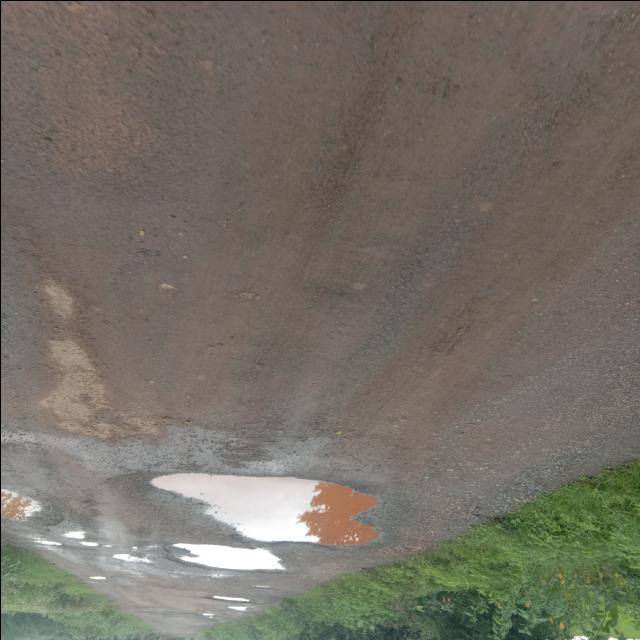potholes: (0, 458, 387, 575), (194, 584, 252, 616)
